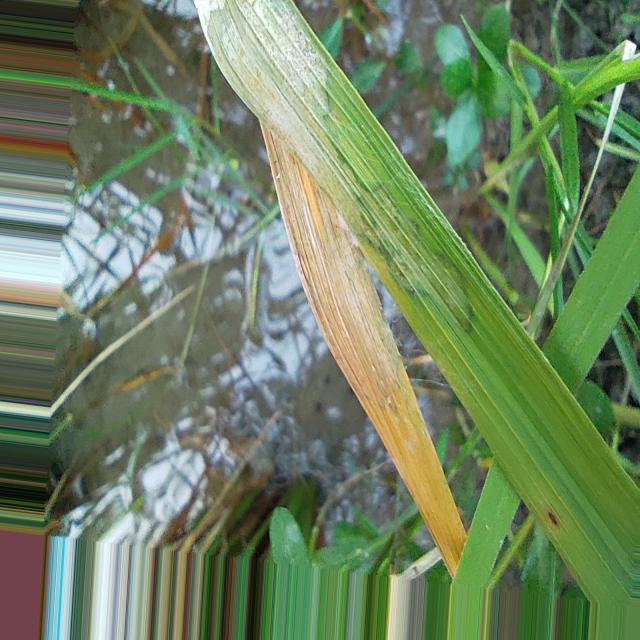Brown_Spot: (548, 511, 561, 528)
Leaf_Blast: (261, 125, 466, 576)
Rice Tungro: (199, 0, 508, 332)
